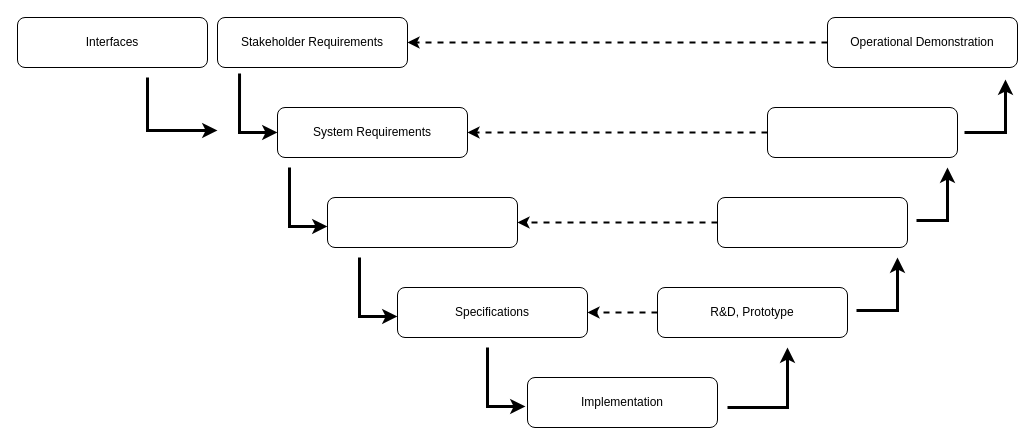
This 1035x445 diagram has some shape labels left out. Each missing label, with the centre of its shape:
Component Development: (812,222)
Component Requirements: (422,222)
System Integration: (862,132)
